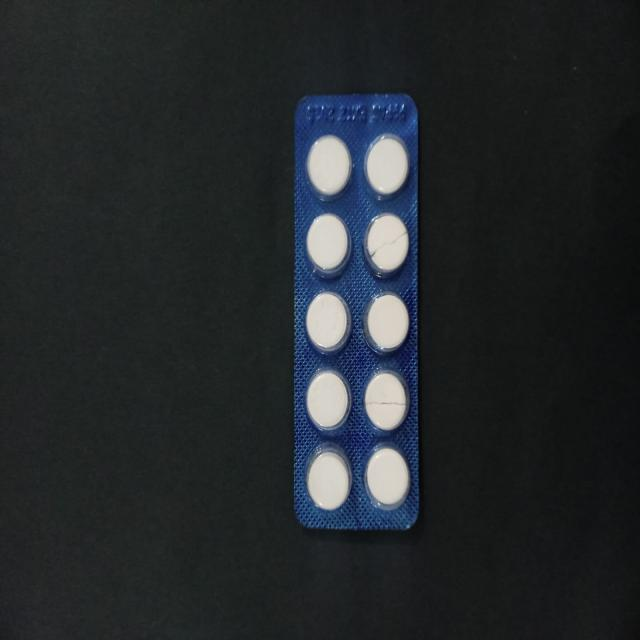defect: (361, 209, 412, 280), (362, 366, 412, 435)
